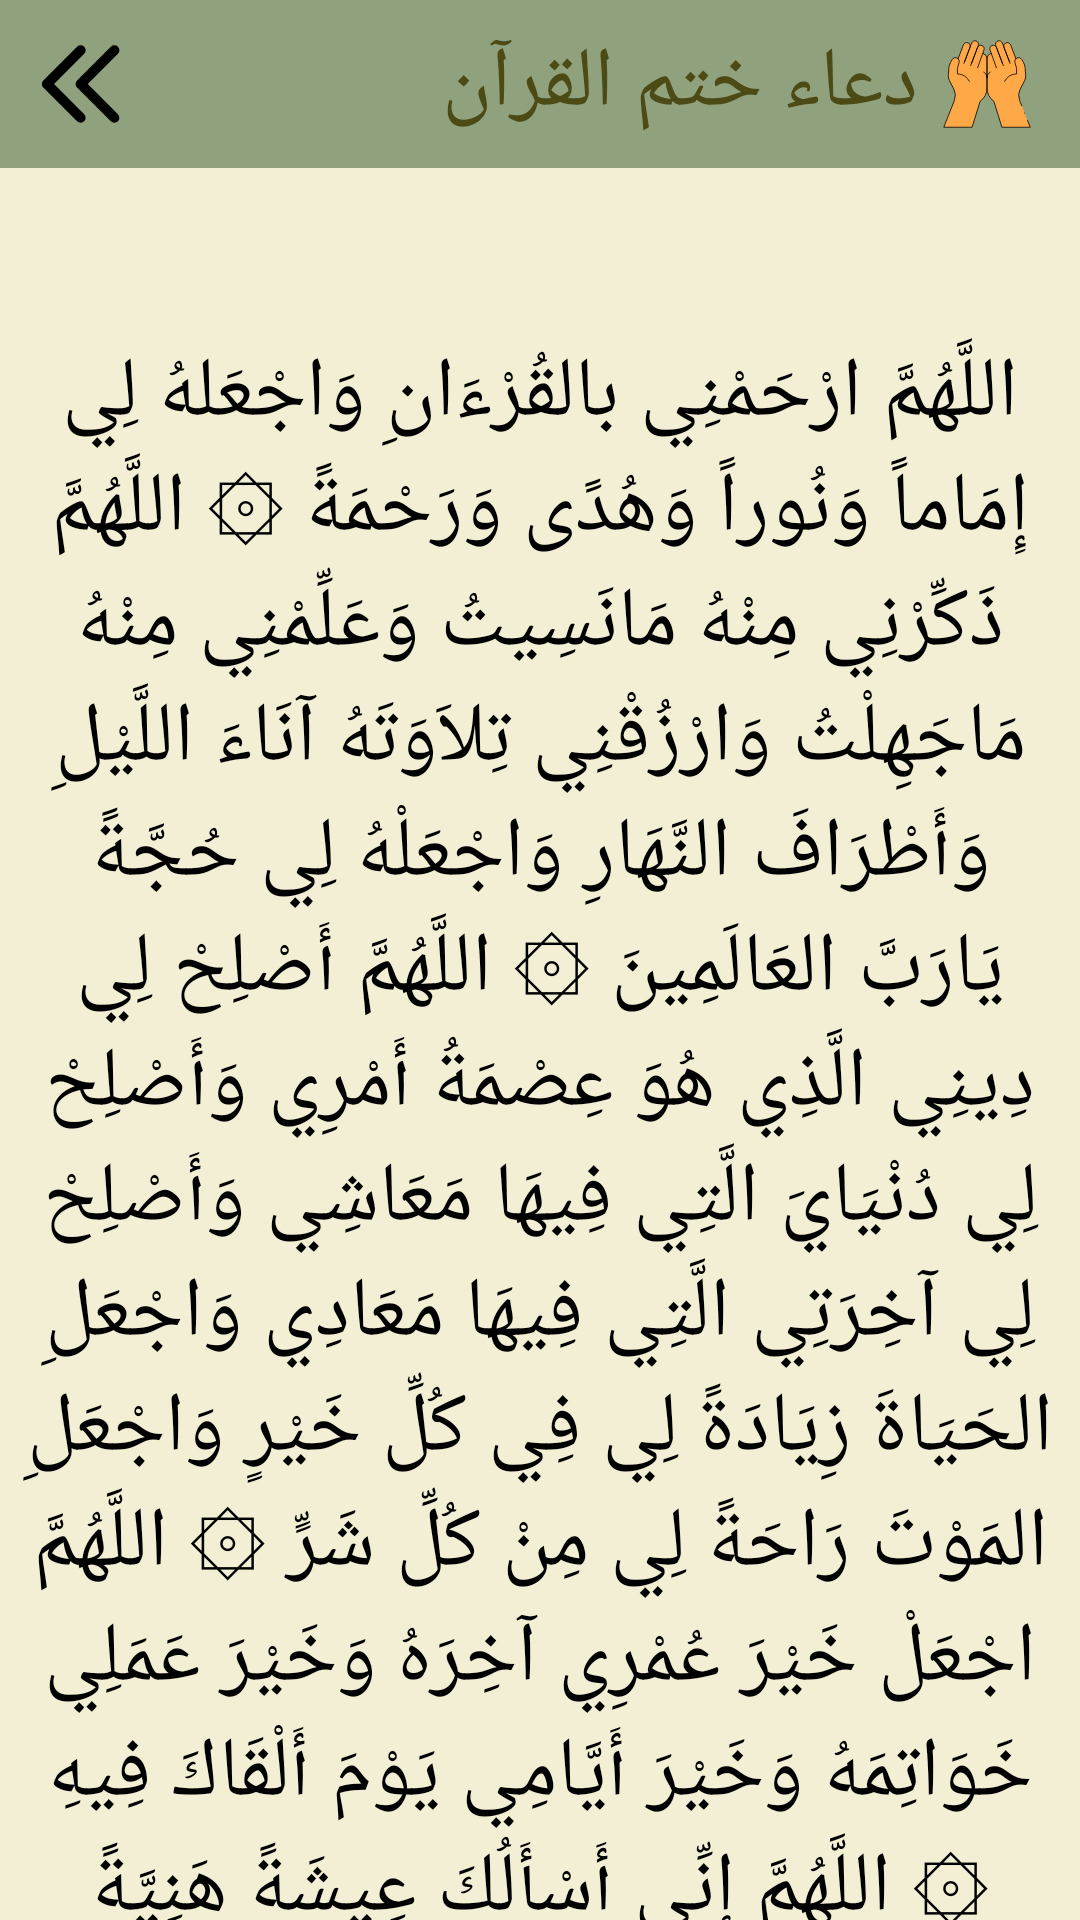

Where to tap for icons on this 1080x1920 app screen, as point (x, y):
back: point (81, 84)
prayer: point (987, 84)
